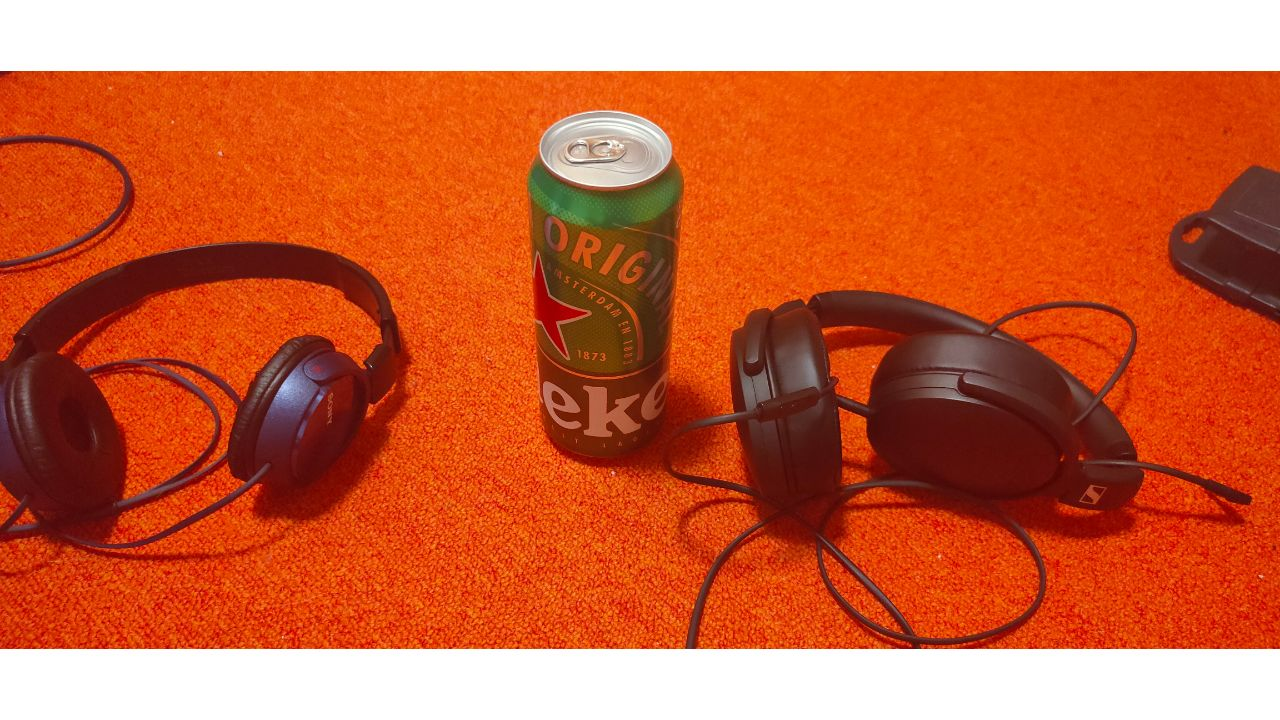Can: (527, 110, 682, 455)
